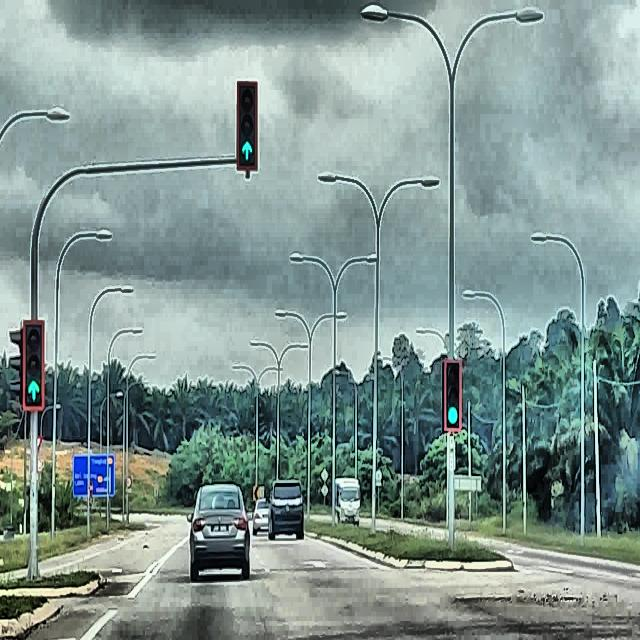green: (22, 319, 44, 408), (237, 82, 257, 170), (443, 359, 462, 430)
